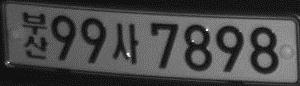7: (149, 22, 179, 68)
8: (249, 25, 279, 74), (184, 23, 212, 71)
9: (215, 24, 244, 73), (79, 16, 106, 63), (50, 14, 77, 60)
부산_V: (22, 11, 48, 59)
사: (112, 23, 138, 65)
